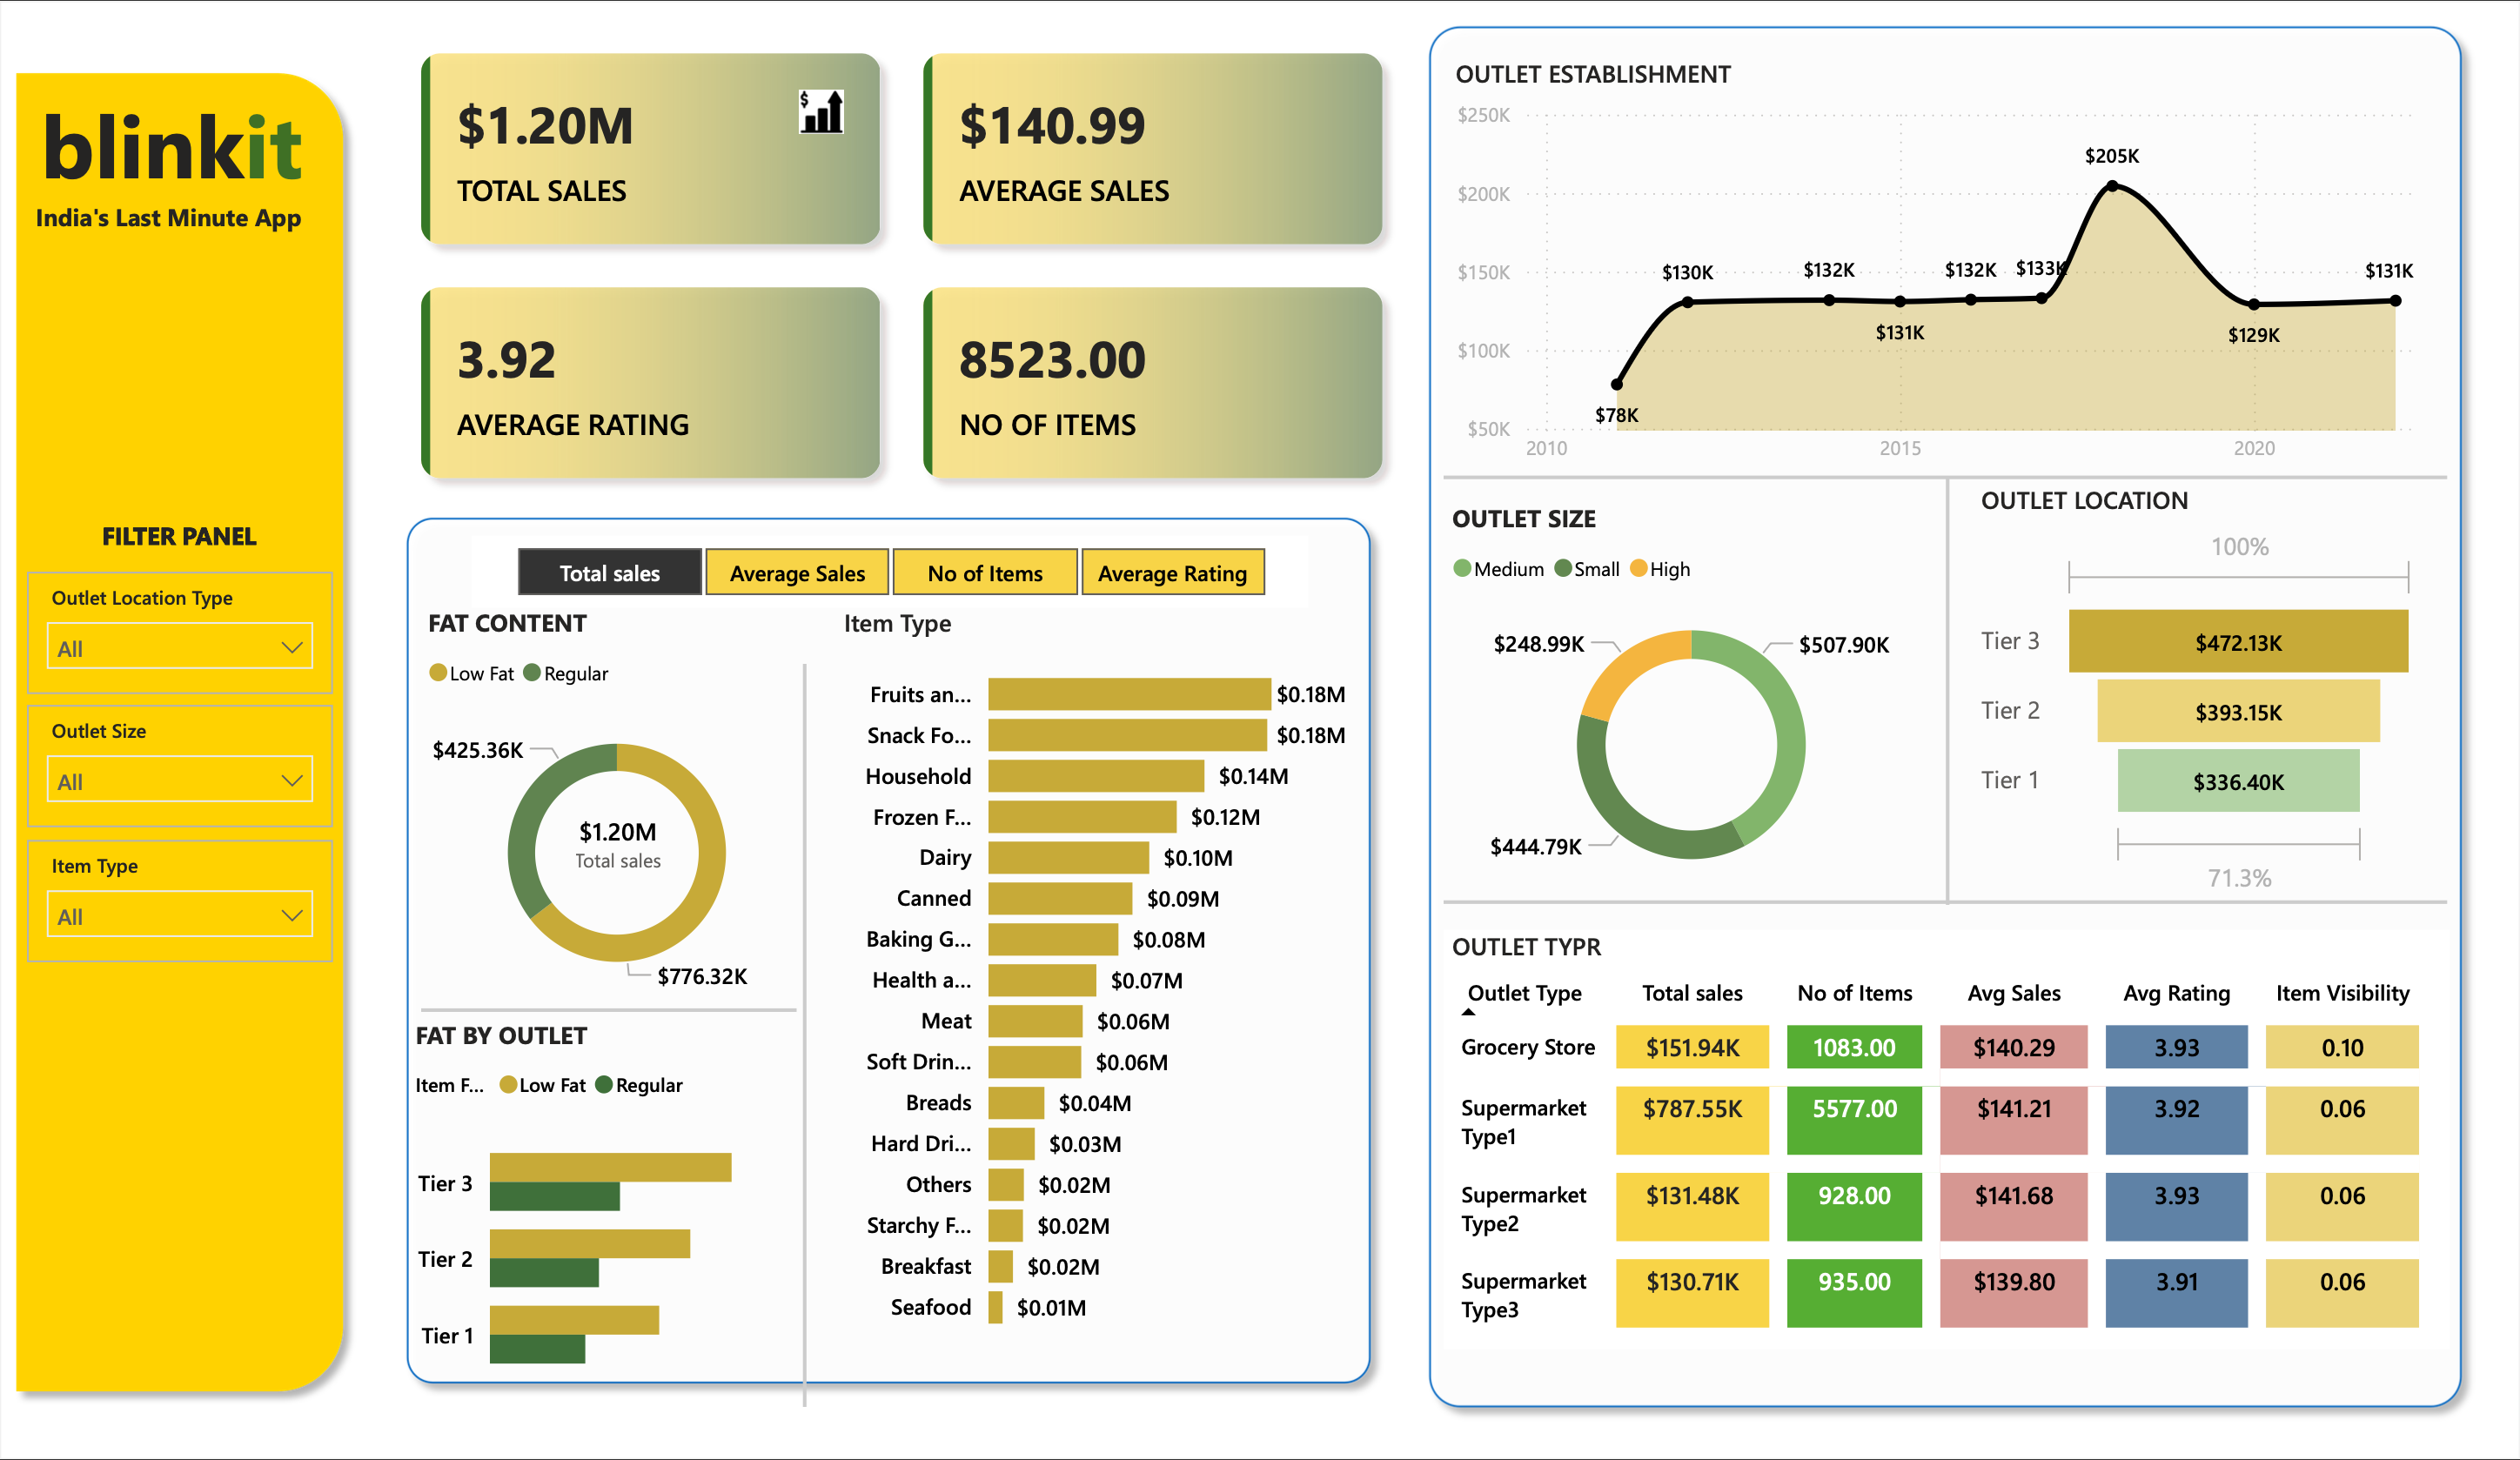

This screenshot's page, from the dashboard's own definition file:
{"tool":"powerbi","page":{"name":"Page 1","canvas":[1400,800],"ordinal":0},"visuals":[{"type":"shape","box":[0,25.5,199.6,750.4],"z":0},{"type":"textbox","box":[18,36,199.6,79.5],"z":1000},{"type":"textbox","box":[14.8,101.2,170,28.4],"z":2000},{"type":"cardVisual","fields":{"Data":["BlinkIT Grocery Data.Total sales","BlinkIT Grocery Data.Average Sales","BlinkIT Grocery Data.Average Rating","BlinkIT Grocery Data.No of Items"]},"box":[216.8,6.8,568.5,271.3],"z":3000},{"type":"shape","box":[216.8,272.7,553.5,499],"z":4000},{"type":"donutChart","title":"FAT CONTENT","fields":{"Y":["BlinkIT Grocery Data.Total sales"],"Category":["BlinkIT Grocery Data.Item Fat Content"]},"box":[233.1,331.3,219.5,229],"z":5000},{"type":"slicer","fields":{"Values":["Metrics .Metrics "]},"box":[261.8,291.8,464.9,39.5],"z":6000},{"type":"cardVisual","fields":{"Data":["BlinkIT Grocery Data.Total sales"]},"box":[283.6,429.4,120,61.4],"z":7000},{"type":"clusteredBarChart","title":"FAT BY OUTLET","fields":{"Y":["BlinkIT Grocery Data.Total sales"],"Category":["BlinkIT Grocery Data.Outlet Location Type"],"Series":["BlinkIT Grocery Data.Item Fat Content"]},"box":[226.3,560.3,226.3,215.4],"z":8000},{"type":"shape","box":[234.5,529,208.6,53.2],"z":9000},{"type":"shape","box":[413.1,362.6,68.2,413.1],"z":10000},{"type":"barChart","title":"Item Type","fields":{"Y":["BlinkIT Grocery Data.Total sales"],"Category":["BlinkIT Grocery Data.Item Type"]},"box":[463.5,331.3,289,413.1],"z":11000},{"type":"shape","box":[785.3,0,591.7,785.3],"z":12000},{"type":"lineChart","title":"OUTLET ESTABLISHMENT","fields":{"Y":["BlinkIT Grocery Data.Total sales"],"Category":["BlinkIT Grocery Data.Outlet Establishment Year"]},"box":[804.4,25.9,544,234.5],"z":13000},{"type":"shape","box":[801.6,233.1,557.6,53.2],"z":14000},{"type":"donutChart","title":"OUTLET SIZE","fields":{"Y":["BlinkIT Grocery Data.Total sales"],"Category":["BlinkIT Grocery Data.Outlet Size"]},"box":[801.6,272.7,275.4,224.9],"z":15000},{"type":"shape","box":[1048.4,260.4,68.2,237.2],"z":16000},{"type":"funnel","title":"OUTLET LOCATION","fields":{"Y":["BlinkIT Grocery Data.Total sales"],"Category":["BlinkIT Grocery Data.Outlet Location Type"]},"box":[1096.1,263.1,252.2,234.5],"z":17000},{"type":"shape","box":[801.6,469,557.6,53.2],"z":18000},{"type":"pivotTable","title":"OUTLET TYPR","fields":{"Rows":["BlinkIT Grocery Data.Outlet Type"],"Values":["BlinkIT Grocery Data.Total sales","BlinkIT Grocery Data.No of Items","BlinkIT Grocery Data.Average Sales","BlinkIT Grocery Data.Average Rating","Avg(BlinkIT Grocery Data.Item Visibility)"]},"box":[801.6,511.2,559,233.1],"z":19000},{"type":"slicer","fields":{"Values":["BlinkIT Grocery Data.Outlet Location Type"]},"box":[15,312.2,170.4,68.2],"z":20000},{"type":"slicer","fields":{"Values":["BlinkIT Grocery Data.Outlet Size"]},"box":[15,385.8,170.4,68.2],"z":21000},{"type":"slicer","fields":{"Values":["BlinkIT Grocery Data.Item Type"]},"box":[15,460.8,170.4,68.2],"z":22000},{"type":"textbox","box":[40.9,278.1,117.2,43.6],"z":22001}]}

Visuals, with their boxes in screenshot pixels (x1, y1, x2, y2), scaled from the page's 1400x800 canvas onto the 2520x1460 screenshot:
shape: 0,46,359,1416
textbox: 32,66,392,211
textbox: 27,184,332,237
cardVisual - BlinkIT Grocery Data.Total sales x BlinkIT Grocery Data.Average Sales: 390,12,1413,507
shape: 390,498,1386,1409
"FAT CONTENT" donutChart: 419,605,814,1022
slicer - Metrics .Metrics : 472,532,1308,605
cardVisual - BlinkIT Grocery Data.Total sales: 511,784,727,895
"FAT BY OUTLET" clusteredBarChart: 407,1022,814,1416
shape: 422,966,798,1062
shape: 744,662,867,1416
"Item Type" barChart: 834,605,1355,1358
shape: 1413,0,2478,1433
"OUTLET ESTABLISHMENT" lineChart: 1448,47,2427,475
shape: 1443,425,2447,523
"OUTLET SIZE" donutChart: 1443,498,1939,908
shape: 1887,475,2010,908
"OUTLET LOCATION" funnel: 1973,480,2427,908
shape: 1443,856,2447,953
"OUTLET TYPR" pivotTable: 1443,933,2449,1358
slicer - BlinkIT Grocery Data.Outlet Location Type: 27,570,334,694
slicer - BlinkIT Grocery Data.Outlet Size: 27,704,334,828
slicer - BlinkIT Grocery Data.Item Type: 27,841,334,966
textbox: 74,507,285,587
